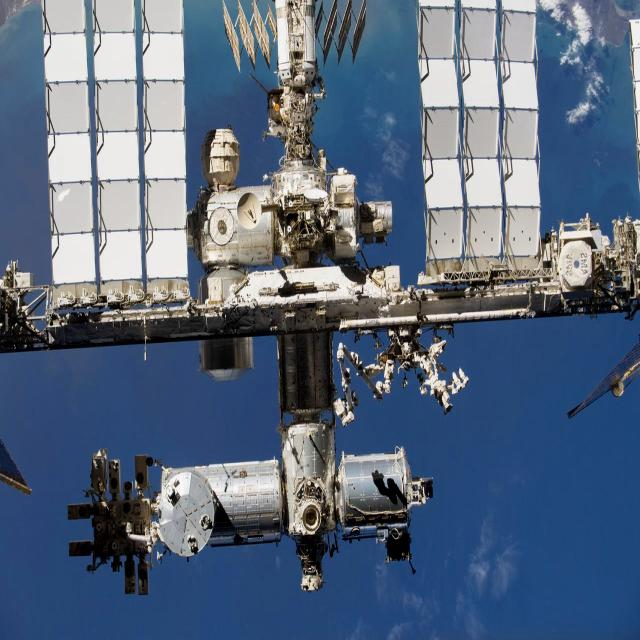medium_debris: (0, 0, 640, 594), (569, 342, 640, 416), (631, 21, 640, 170), (0, 460, 29, 491)
